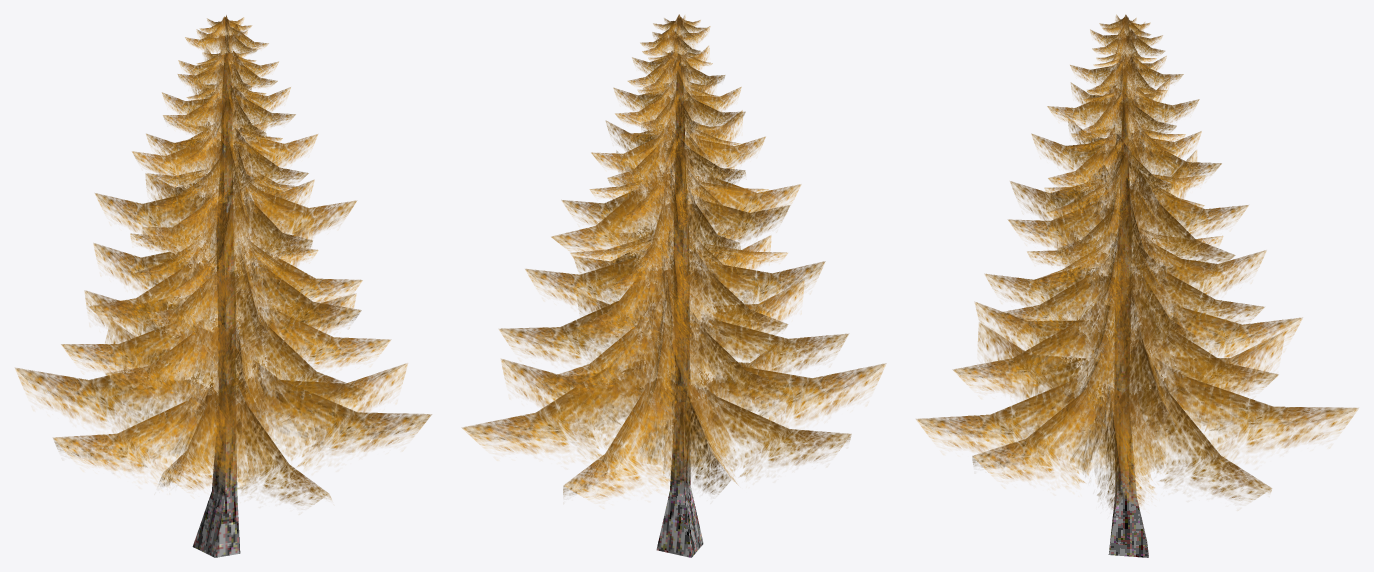
File: derevo.glb
3 renders of one model, left to right at view 1: azimuth 30°, elevation 25°; view 2: azimuth 150°, elevation 25°; view 3: azimuth 270°, elevation 25°, orthographic.
Visible parts, largest first — view 1: xasfs, Cube; view 2: xasfs, Cube; view 3: xasfs, Cube.
Boxes of the visible parts, x1,y1,x2,y2 form: xasfs: [15, 15, 431, 506]; Cube: [192, 54, 240, 557]; xasfs: [462, 14, 886, 499]; Cube: [656, 53, 703, 557]; xasfs: [916, 14, 1358, 509]; Cube: [1108, 55, 1148, 557].
Size of what is drawn, in the model's own units: 4.69 by 6.75 by 5.05.
2 materials, 2 textured.
